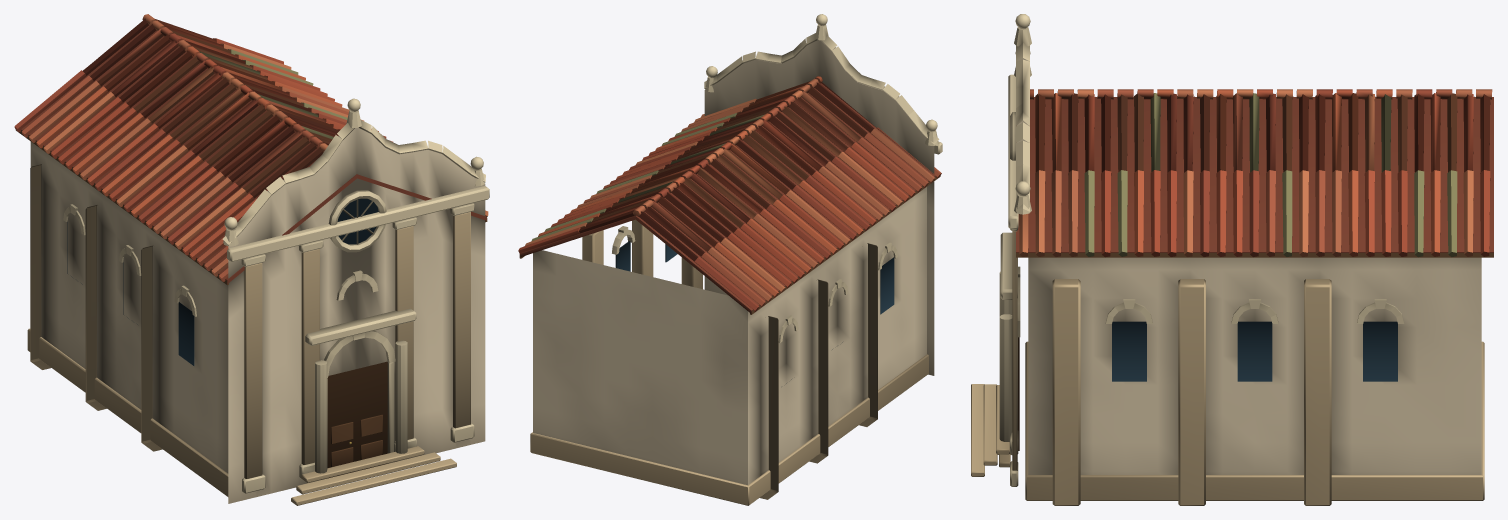
The model's file is church.glb.
The picture shows the model from 3 angles, left to right: view 1: azimuth 30°, elevation 25°; view 2: azimuth 150°, elevation 25°; view 3: azimuth 270°, elevation 25°; orthographic projection. The views are drawn at different scales.
Parts seen in each view (by area): view 1: church_mesh; view 2: church_mesh; view 3: church_mesh.
Part boxes in pixels (left/top/right/bottom): church_mesh: left=14, top=14, right=489, bottom=505; church_mesh: left=518, top=14, right=942, bottom=505; church_mesh: left=971, top=14, right=1493, bottom=505.
Bounding box in the file's own units: 10.02 × 13.27 × 14.99.
